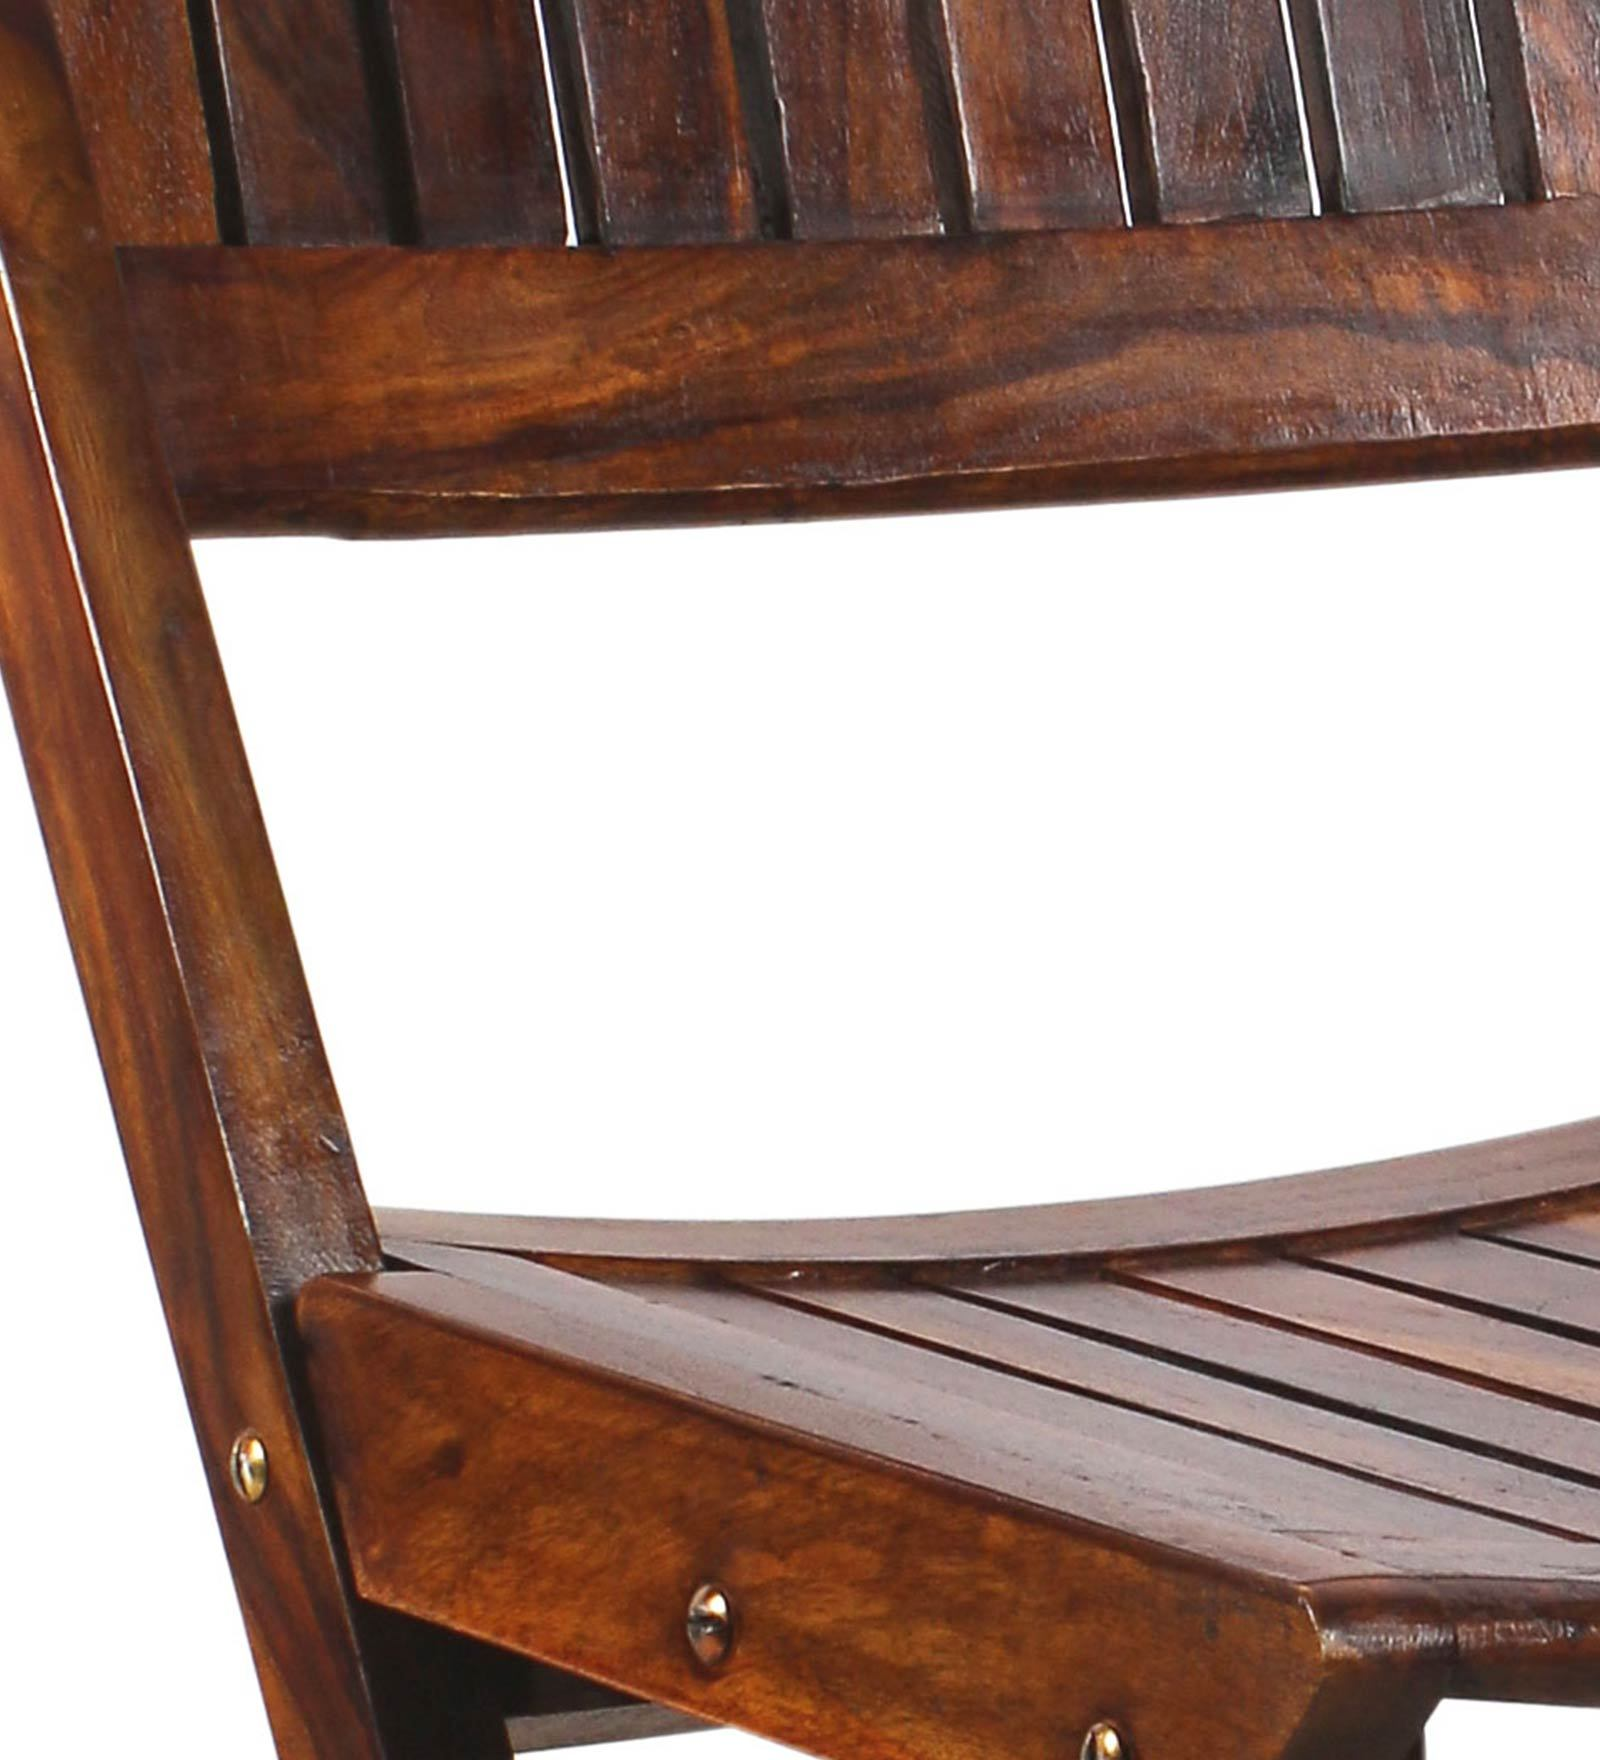Sheesham Wood Folding Chair in Walnut Finish by VarEesha: (23, 14, 1597, 1745)
